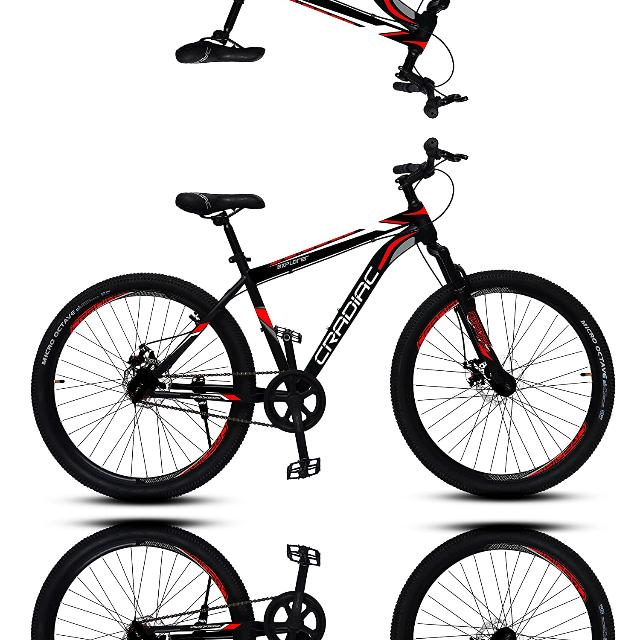obstacle: (24, 135, 624, 507), (24, 517, 624, 640), (24, 0, 624, 121)
